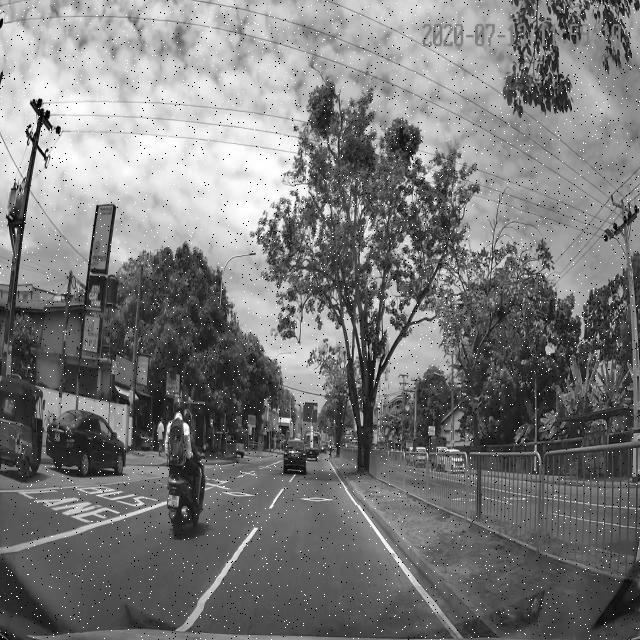diamond: (273, 489, 359, 505)
